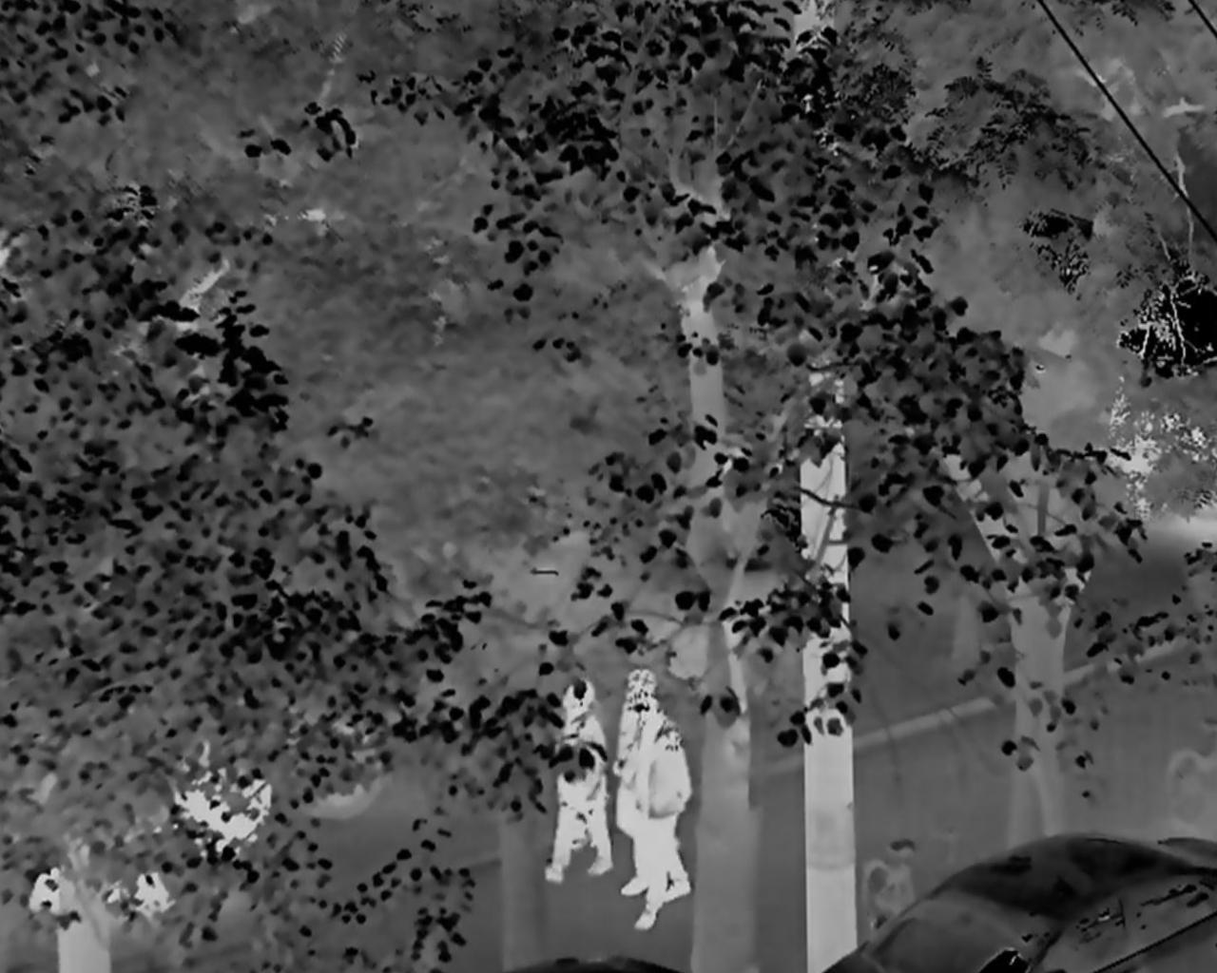person: (550, 677, 616, 887), (632, 702, 693, 929), (612, 660, 667, 895)
